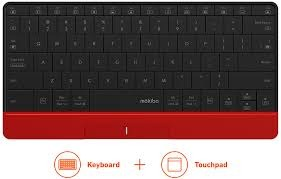keyboard: (0, 1, 281, 117)
